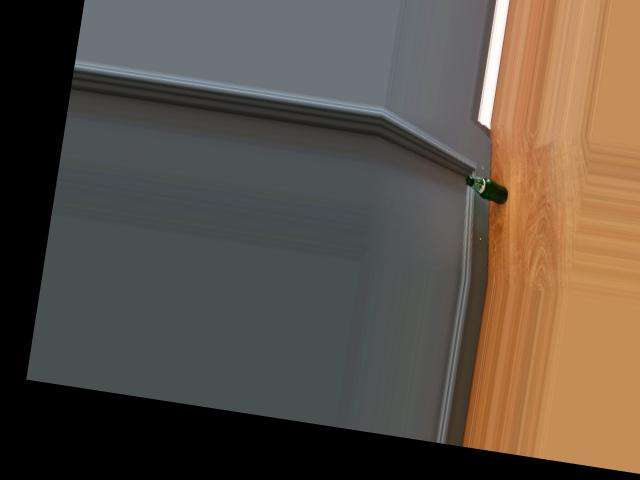beer: (464, 175, 509, 204)
